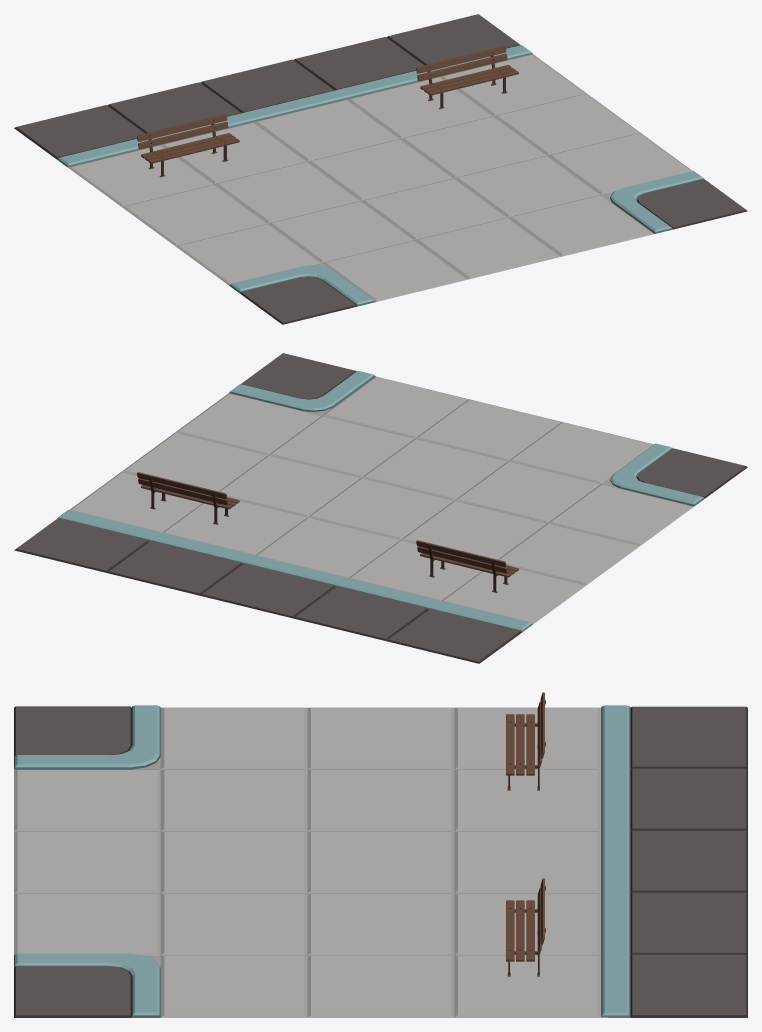
Rendered from Fork_B.glb.
3 views of the same model, one above another, from view 1: azimuth 30°, elevation 25°; view 2: azimuth 150°, elevation 25°; view 3: azimuth 270°, elevation 25° (orthographic). The views are drawn at different scales.
Parts seen in each view (by area): view 1: Fork_B, Bench_01.014, Bench_01.013; view 2: Fork_B, Bench_01.013, Bench_01.014; view 3: Fork_B, Bench_01.013, Bench_01.014.
Part boxes in pixels (x1,y1,x2,y2): Fork_B: (14,14,747,324); Bench_01.014: (416,46,518,108); Bench_01.013: (137,114,239,177); Fork_B: (14,353,747,663); Bench_01.013: (416,540,518,592); Bench_01.014: (137,472,239,524); Fork_B: (14,705,747,1017); Bench_01.013: (506,692,545,790); Bench_01.014: (506,878,545,976).
Size of what is drawn, in the model's own units: 16 by 1.16 by 16.
2 materials, 2 textured.
